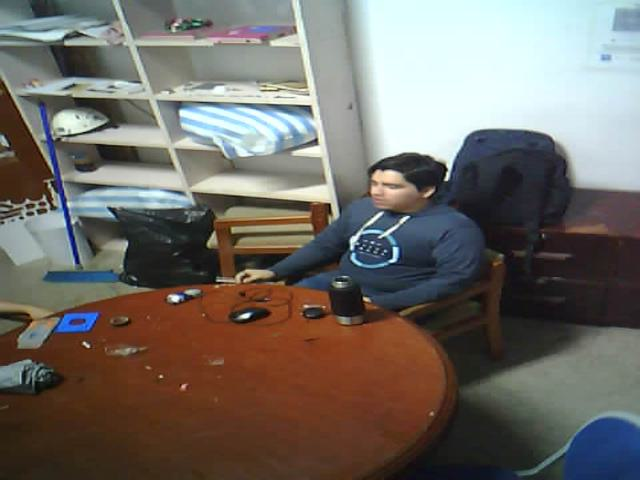person: (203, 132, 514, 339)
